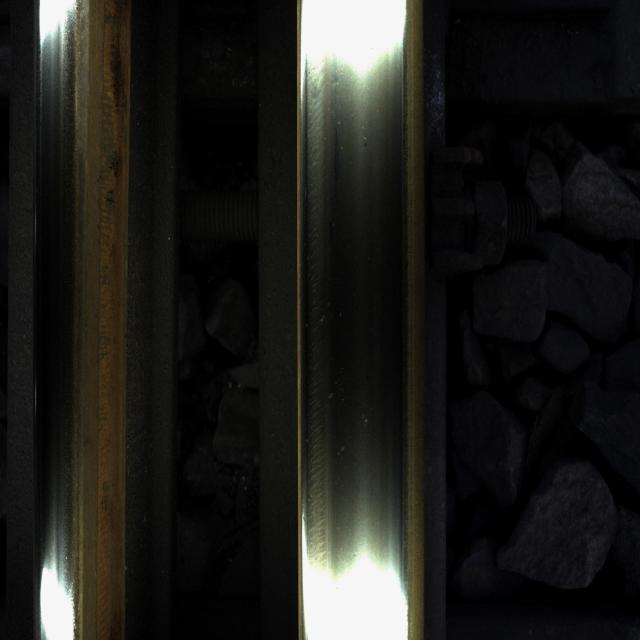break: (311, 37, 401, 628)
